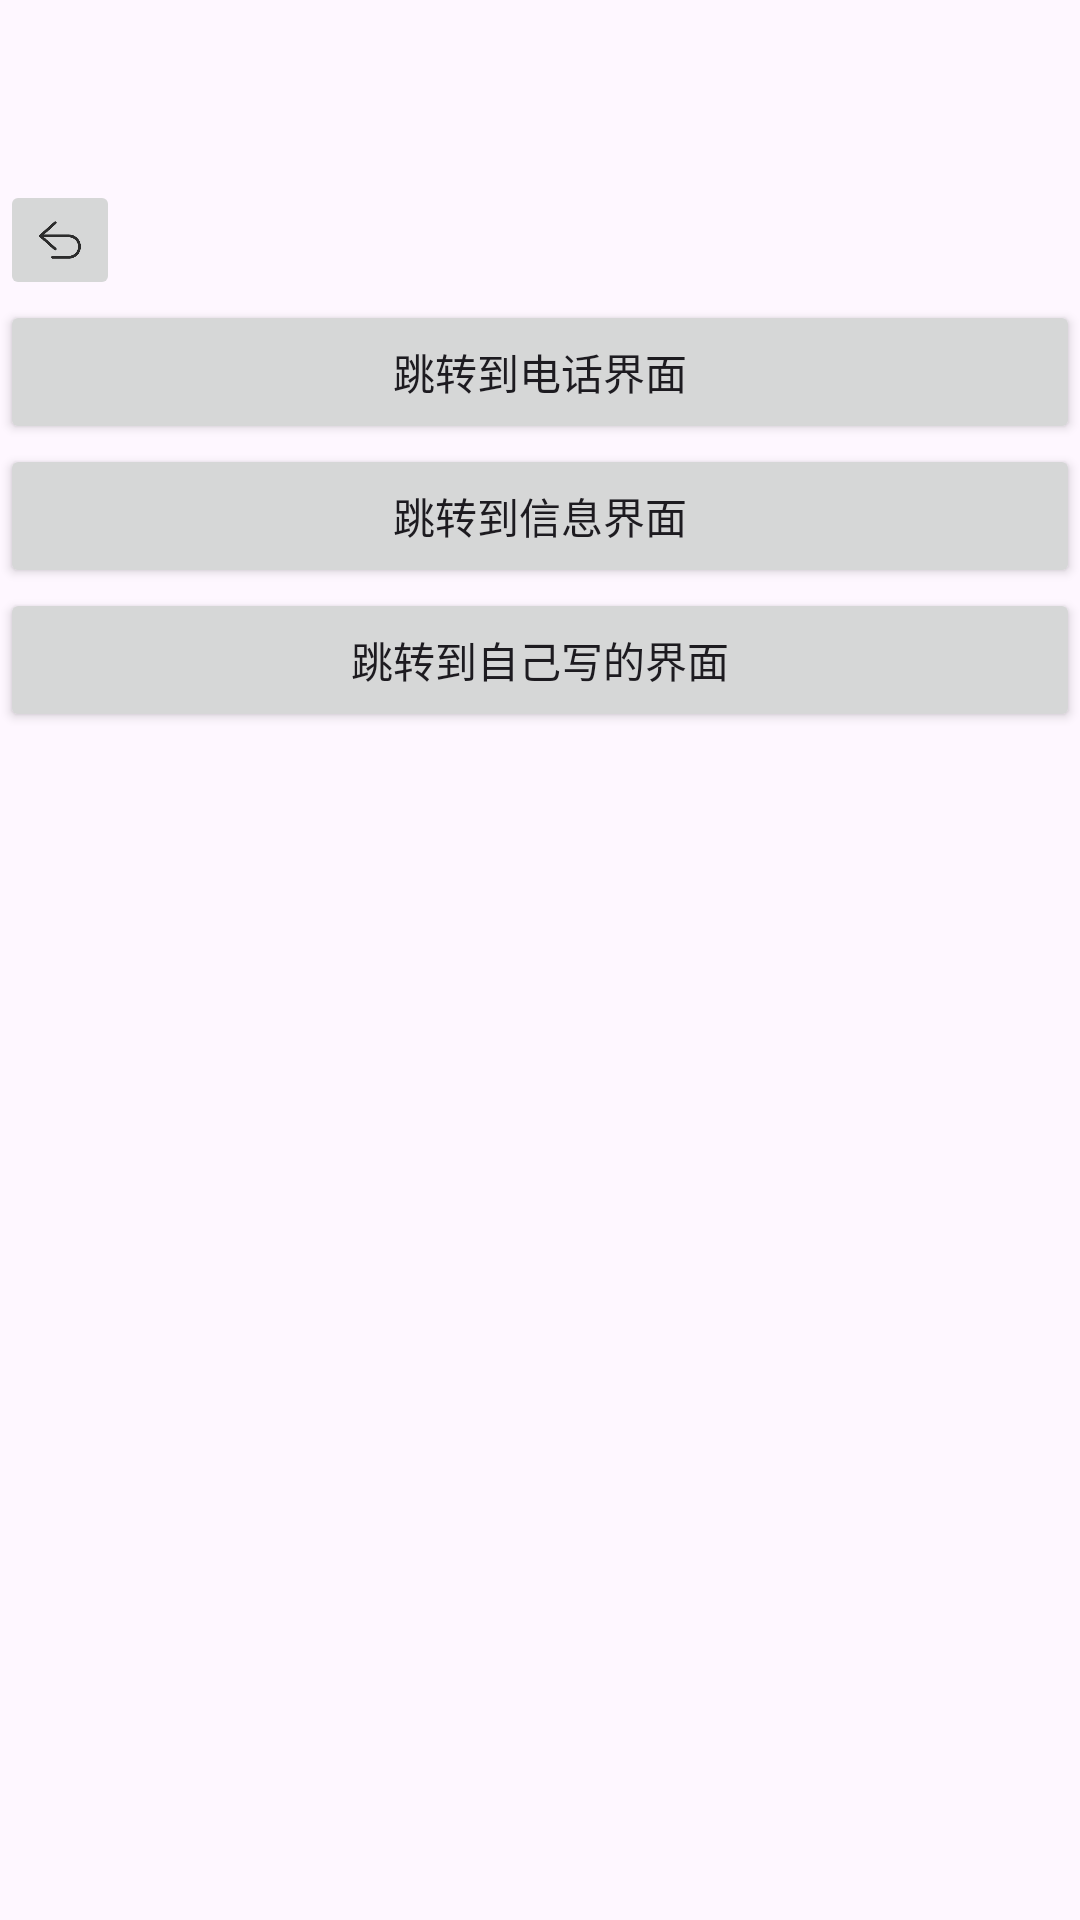

Where icons sit on this 1080px×1920px app screen, as Rect(x1, y1, x2, y2):
re back: Rect(12, 198, 108, 282)
